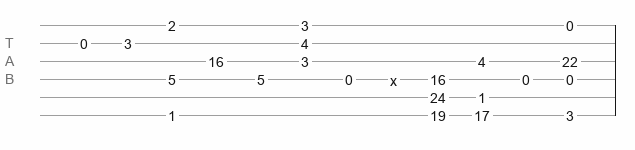0: (80, 36, 88, 46), (345, 72, 353, 82), (522, 72, 530, 82), (566, 18, 574, 28), (566, 72, 574, 82)
1: (168, 108, 176, 118), (478, 90, 486, 100)
16: (208, 54, 224, 64), (430, 72, 446, 82)
17: (474, 108, 490, 118)
19: (430, 108, 446, 118)
2: (168, 18, 176, 28)
22: (562, 54, 578, 64)
24: (430, 90, 446, 100)
3: (124, 36, 132, 46), (301, 18, 309, 28), (301, 54, 309, 64), (566, 108, 574, 118)
4: (301, 36, 309, 46), (478, 54, 486, 64)
5: (168, 72, 176, 82), (257, 72, 265, 82)
x: (390, 73, 397, 81)
